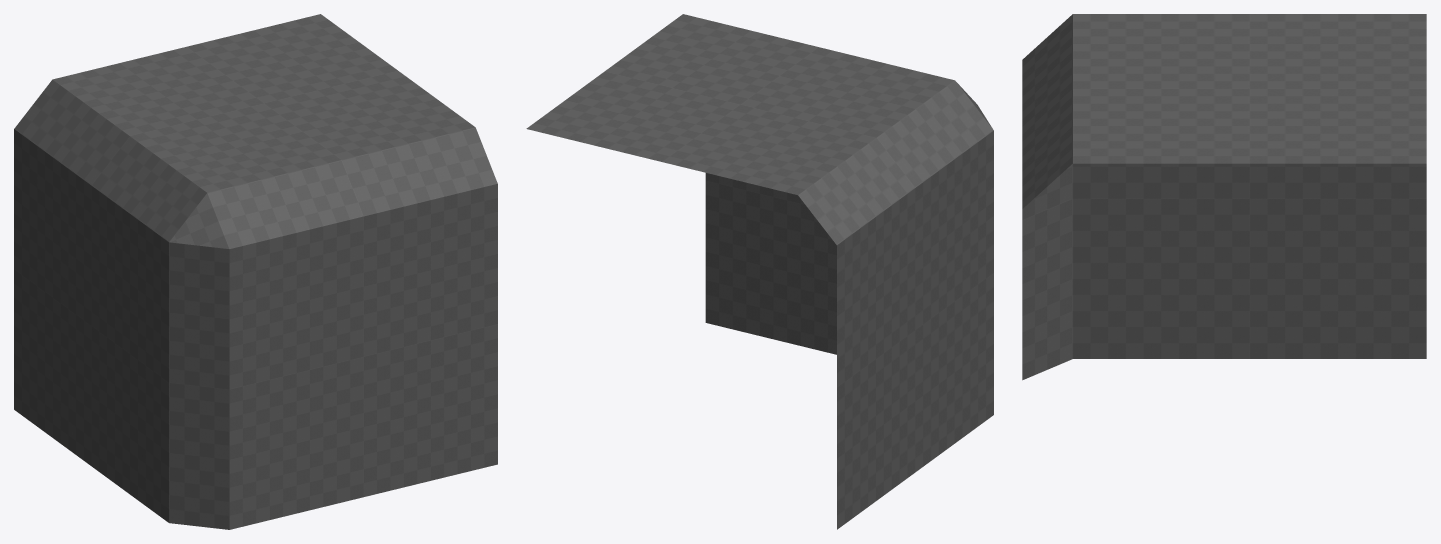
3 views of the same model, side by side, from view 1: azimuth 30°, elevation 25°; view 2: azimuth 150°, elevation 25°; view 3: azimuth 270°, elevation 25° (orthographic). The views are drawn at different scales.
Parts seen in each view (by area): view 1: CubeInDownBackRight; view 2: CubeInDownBackRight; view 3: CubeInDownBackRight.
Part boxes in pixels (bbox=[...]): CubeInDownBackRight: bbox=[14, 14, 497, 529]; CubeInDownBackRight: bbox=[526, 14, 993, 529]; CubeInDownBackRight: bbox=[1022, 14, 1426, 380].
Size of the model in its own units: 2 by 2 by 2.
1 material, 1 textured.
